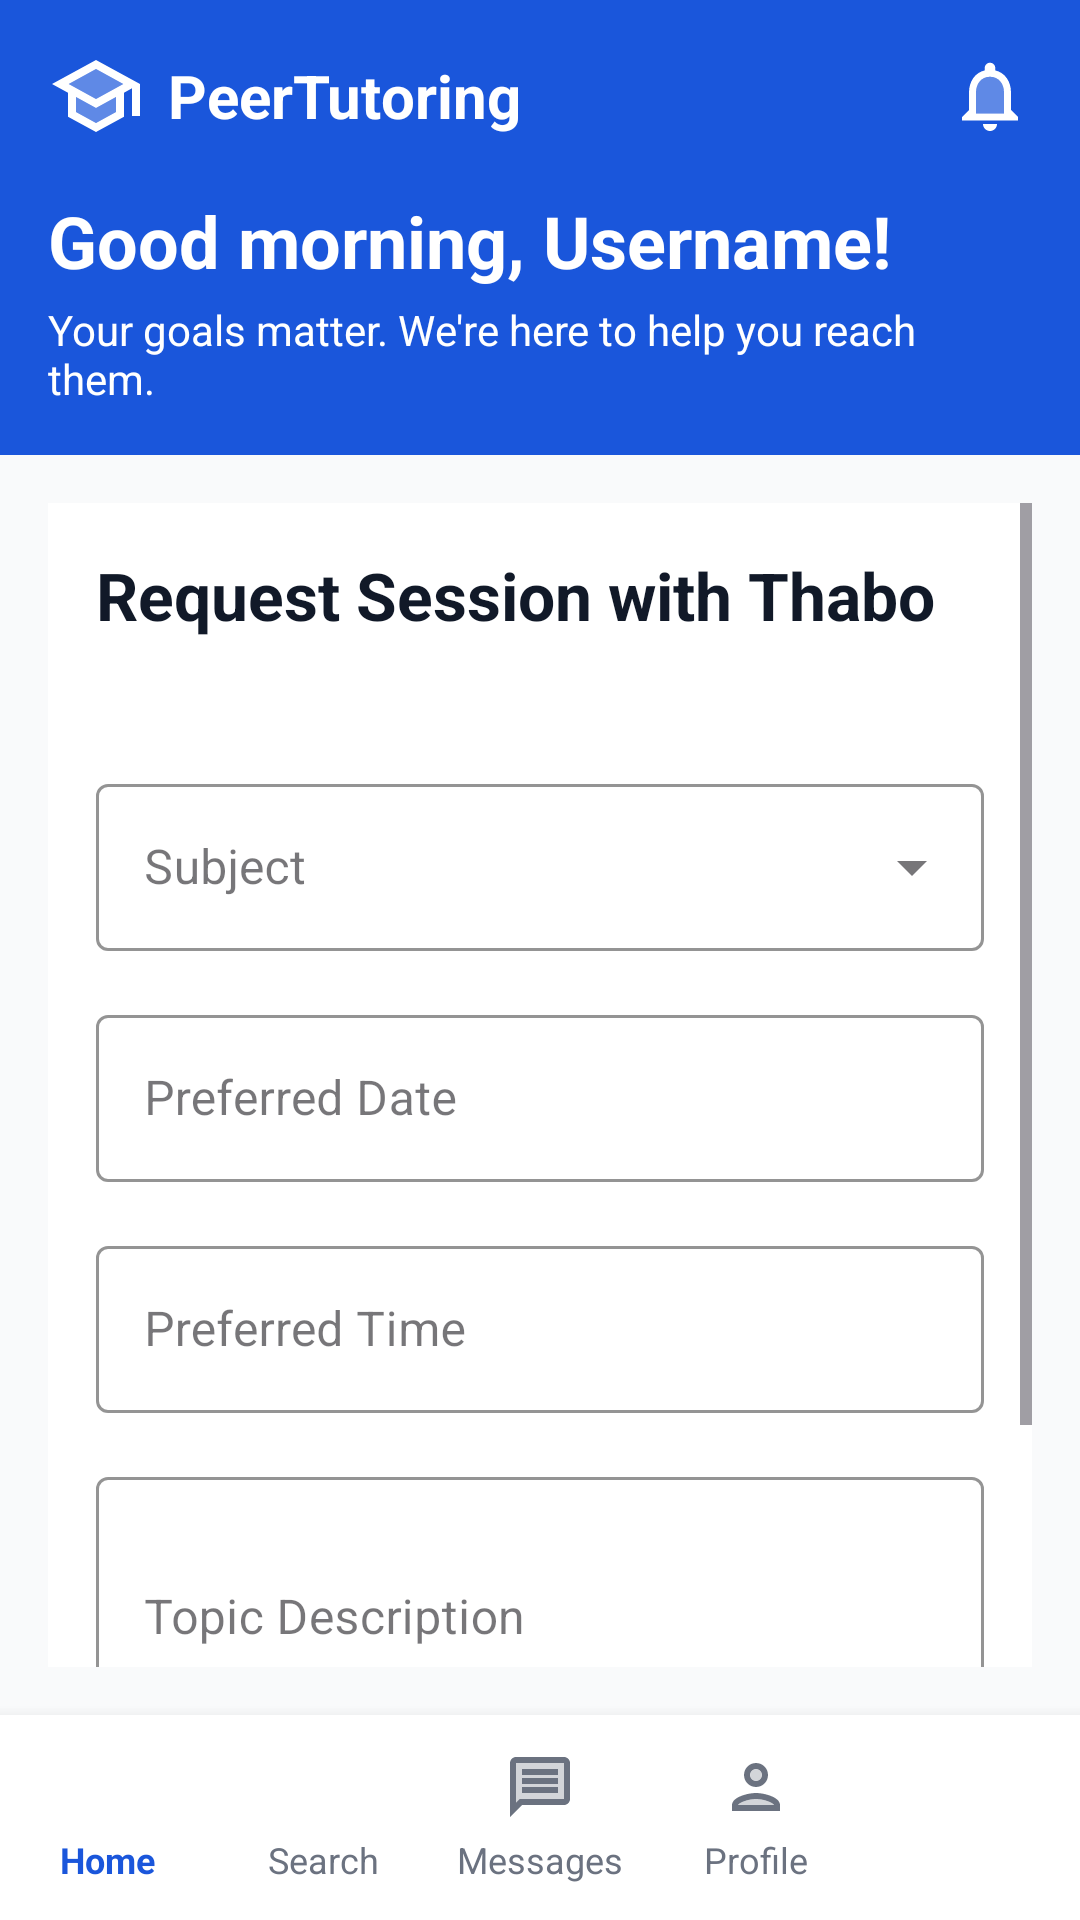

Icons on this 1080 x 1920 Android screen, each with the point to tap as [x,y]:
notifications: [990,96]
person: [756,1787]
school hat: [96,96]
